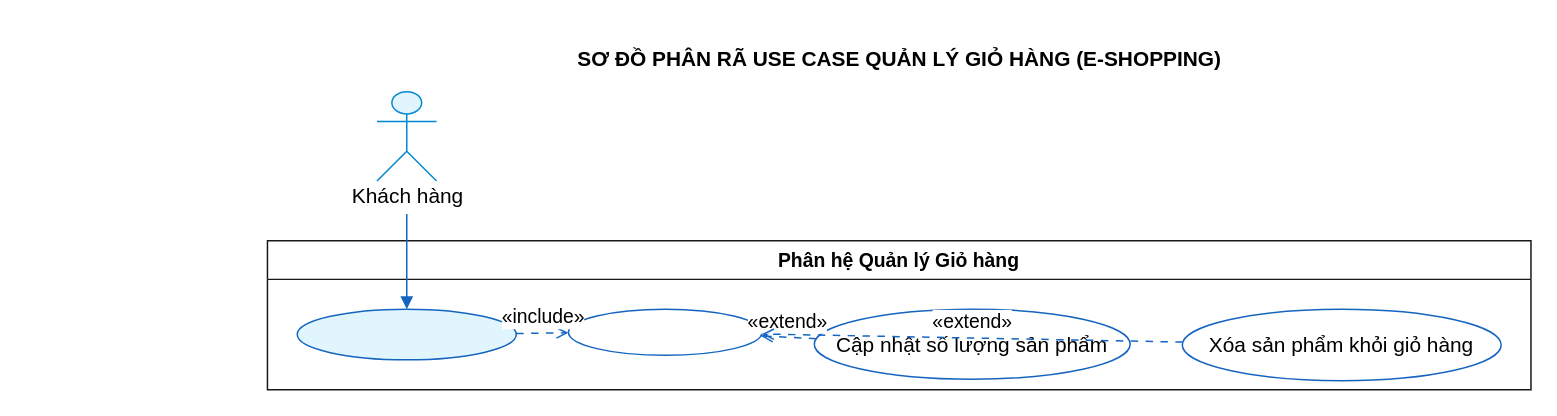
The diagram is 1557 pixels wide and 416 high, and some of its shapes have lost their labels. Each missing label, with the centre of its shape:
"Quản lý giỏ hàng" belongs at pixel 406 334.
"Xem giỏ hàng" belongs at pixel 664 331.
